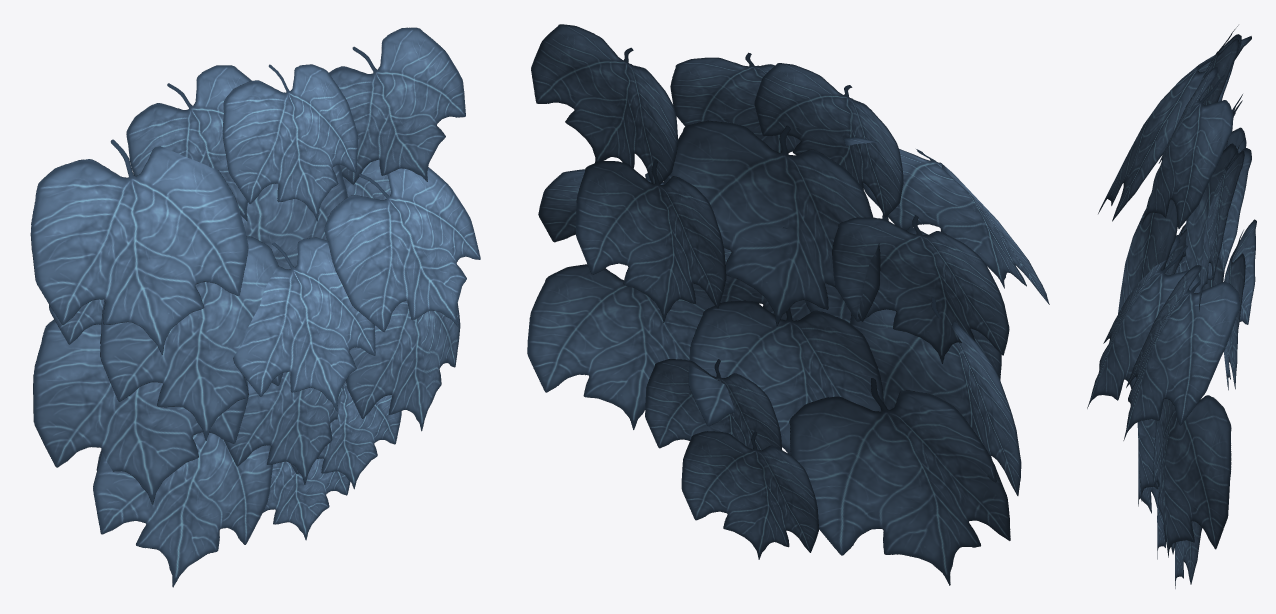
File: MarshVineBunch_c01.fbx
3 views of the same model, side by side, from view 1: azimuth 30°, elevation 25°; view 2: azimuth 150°, elevation 25°; view 3: azimuth 270°, elevation 25° (orthographic). The views are drawn at different scales.
Visible parts, largest first — view 1: VineBunch_c01; view 2: VineBunch_c01; view 3: VineBunch_c01.
Boxes of the visible parts, x1,y1,x2,y2 form: VineBunch_c01: (30, 27, 480, 587); VineBunch_c01: (527, 24, 1049, 585); VineBunch_c01: (1087, 25, 1256, 588).
Size of the model in its own units: 143 by 146 by 44.31.
